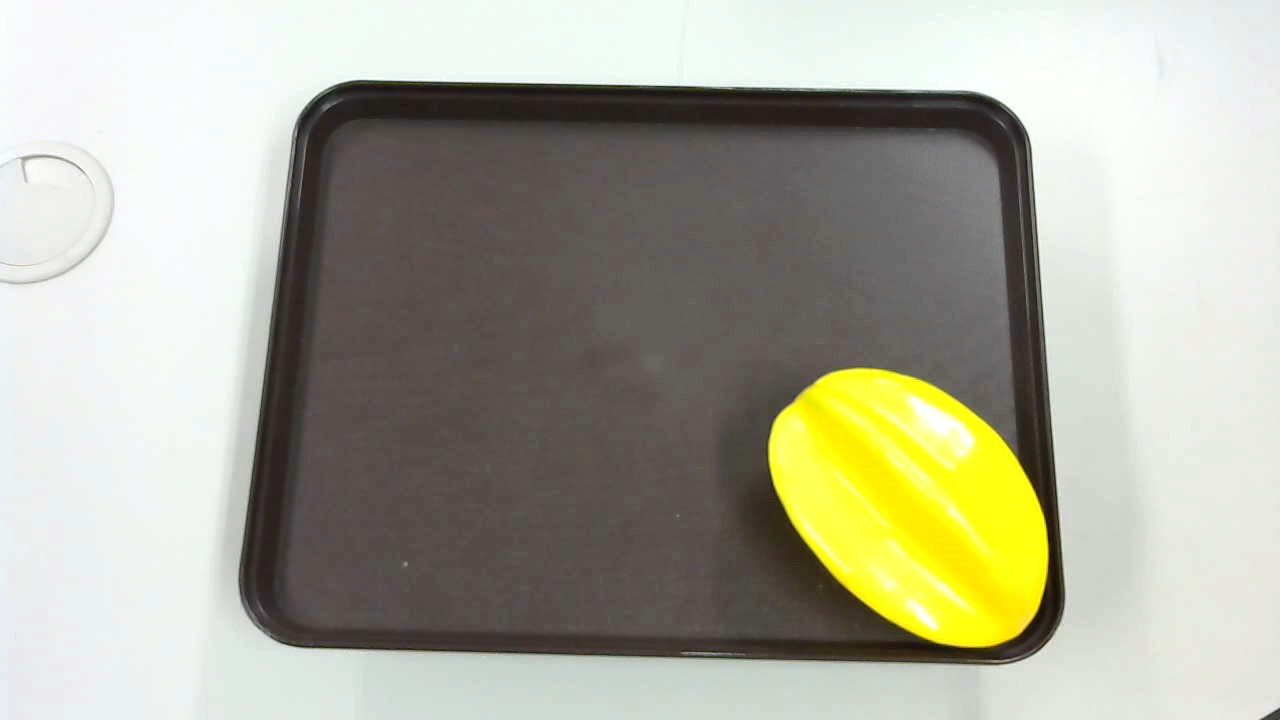star fruit: (761, 366, 1052, 658)
